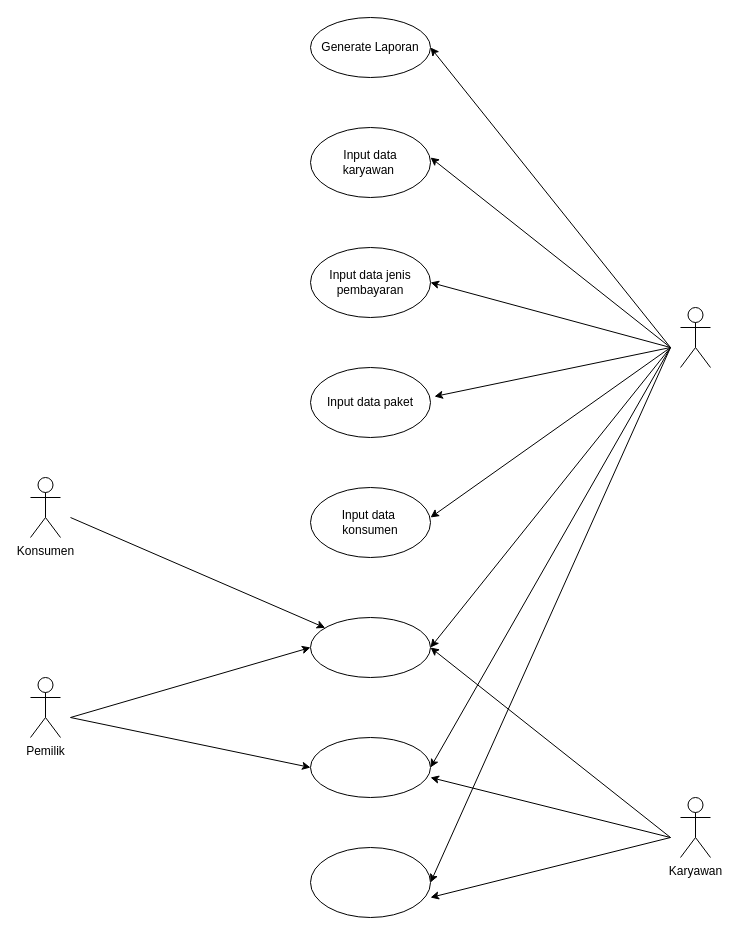
This 739x935 diagram has some shape labels left out. Each missing label, with the box of its shape:
Admin: (680, 306, 710, 368)
buat transaksi pemesanan: (310, 846, 430, 918)
Lihat history order: (310, 616, 430, 678)
Login: (310, 736, 430, 798)
